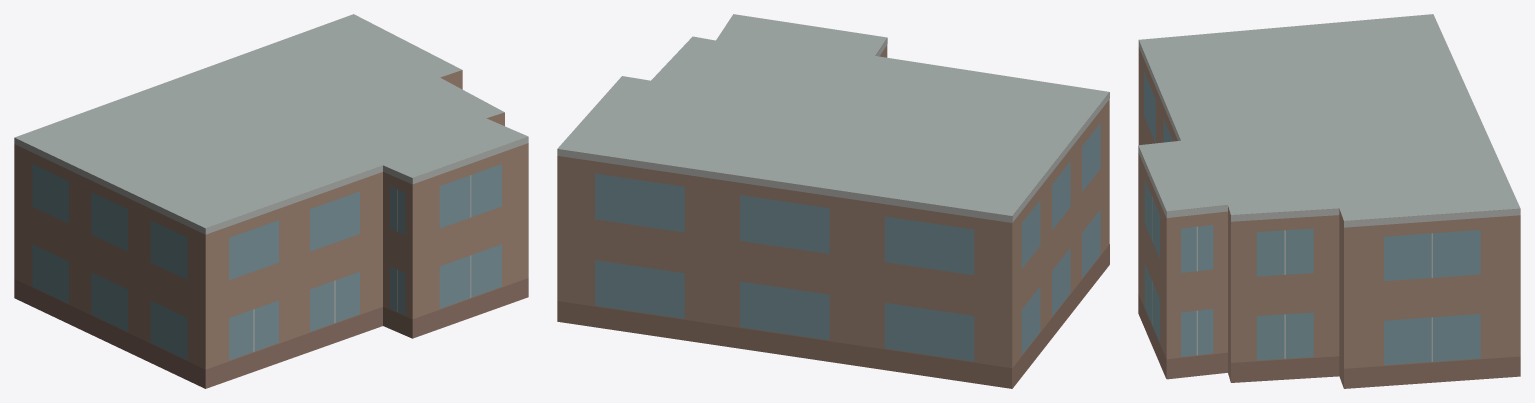
File: survey-upis-32584026.glb
3 views of the same model, side by side, from view 1: azimuth 30°, elevation 25°; view 2: azimuth 150°, elevation 25°; view 3: azimuth 270°, elevation 25° (orthographic). The views are drawn at different scales.
Visible parts, largest first — view 1: survey-upis-32584026.tmp; view 2: survey-upis-32584026.tmp; view 3: survey-upis-32584026.tmp.
Boxes of the visible parts, box(x1,y1,x2,y2) form: survey-upis-32584026.tmp: box(14, 14, 528, 388); survey-upis-32584026.tmp: box(557, 14, 1109, 388); survey-upis-32584026.tmp: box(1138, 14, 1520, 388).
Bounding box in the file's own units: 16.13 × 6.1 × 12.6.
